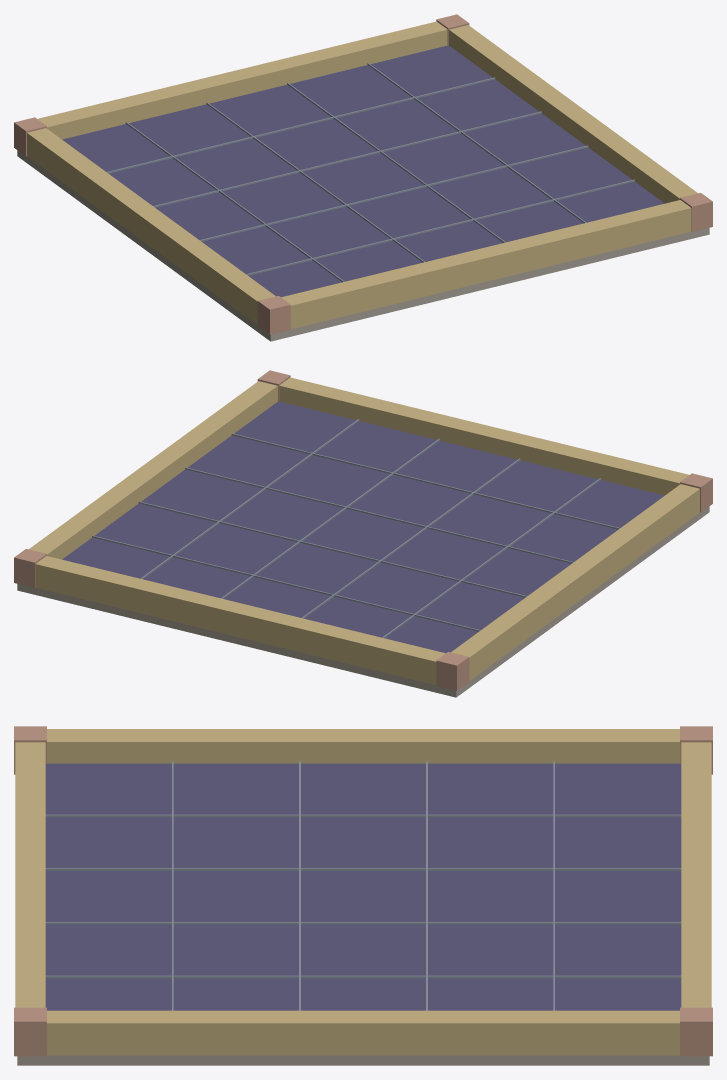
Rendered from shared_board_5x5.glb.
3 views of the same model, one above another, from view 1: azimuth 30°, elevation 25°; view 2: azimuth 150°, elevation 25°; view 3: azimuth 270°, elevation 25° (orthographic). The views are drawn at different scales.
Visible parts, largest first — view 1: assemble.playfield, assemble.frame.edge.south, assemble.frame.edge.north, assemble.frame.edge.west, assemble.frame.edge.east, assemble.support, assemble.frame.corner.-1.1, assemble.divider.row.1, assemble.divider.row.0, assemble.divider.row.3, assemble.divider.row.2, assemble.frame.corner.1.1 (+5 smaller); view 2: assemble.playfield, assemble.frame.edge.north, assemble.frame.edge.south, assemble.frame.edge.west, assemble.frame.edge.east, assemble.support, assemble.frame.corner.-1.-1, assemble.divider.row.2, assemble.divider.row.3, assemble.divider.row.0, assemble.divider.row.1, assemble.frame.corner.1.-1 (+5 smaller); view 3: assemble.playfield, assemble.frame.edge.east, assemble.frame.edge.west, assemble.frame.edge.north, assemble.frame.edge.south, assemble.support, assemble.divider.col.0, assemble.divider.col.3, assemble.divider.col.1, assemble.divider.col.2, assemble.frame.corner.1.-1, assemble.frame.corner.1.1 (+2 smaller).
Part boxes in pixels (<box>): assemble.playfield: <box>62,45,664,297</box>; assemble.frame.edge.south: <box>281,200,691,329</box>; assemble.frame.edge.north: <box>37,21,447,139</box>; assemble.frame.edge.west: <box>27,128,275,324</box>; assemble.frame.edge.east: <box>449,25,697,203</box>; assemble.support: <box>17,150,709,341</box>; assemble.frame.corner.-1.1: <box>257,296,290,334</box>; assemble.divider.row.1: <box>153,111,541,207</box>; assemble.divider.row.0: <box>106,77,495,173</box>; assemble.divider.row.3: <box>246,179,634,275</box>; assemble.divider.row.2: <box>200,145,588,241</box>; assemble.frame.corner.1.1: <box>680,193,712,231</box>; assemble.playfield: <box>62,401,664,653</box>; assemble.frame.edge.north: <box>35,556,445,685</box>; assemble.frame.edge.south: <box>279,377,689,495</box>; assemble.frame.edge.west: <box>451,484,699,680</box>; assemble.frame.edge.east: <box>29,381,277,559</box>; assemble.support: <box>17,506,709,697</box>; assemble.frame.corner.-1.-1: <box>436,652,469,690</box>; assemble.divider.row.2: <box>185,467,573,563</box>; assemble.divider.row.3: <box>231,433,620,529</box>; assemble.divider.row.0: <box>92,535,480,631</box>; assemble.divider.row.1: <box>138,501,526,597</box>; assemble.frame.corner.1.-1: <box>14,549,46,587</box>; assemble.playfield: <box>45,763,681,1010</box>; assemble.frame.edge.east: <box>47,1010,679,1055</box>; assemble.frame.edge.west: <box>47,729,679,763</box>; assemble.frame.edge.north: <box>681,742,711,1007</box>; assemble.frame.edge.south: <box>15,742,45,1007</box>; assemble.support: <box>17,1055,709,1065</box>; assemble.divider.col.0: <box>45,814,681,817</box>; assemble.divider.col.3: <box>45,975,681,978</box>; assemble.divider.col.1: <box>45,868,681,870</box>; assemble.divider.col.2: <box>45,922,681,924</box>; assemble.frame.corner.1.-1: <box>680,1007,712,1056</box>; assemble.frame.corner.1.1: <box>14,1007,46,1056</box>.
Bounding box in the file's own units: 5.5 × 0.395 × 5.5.
